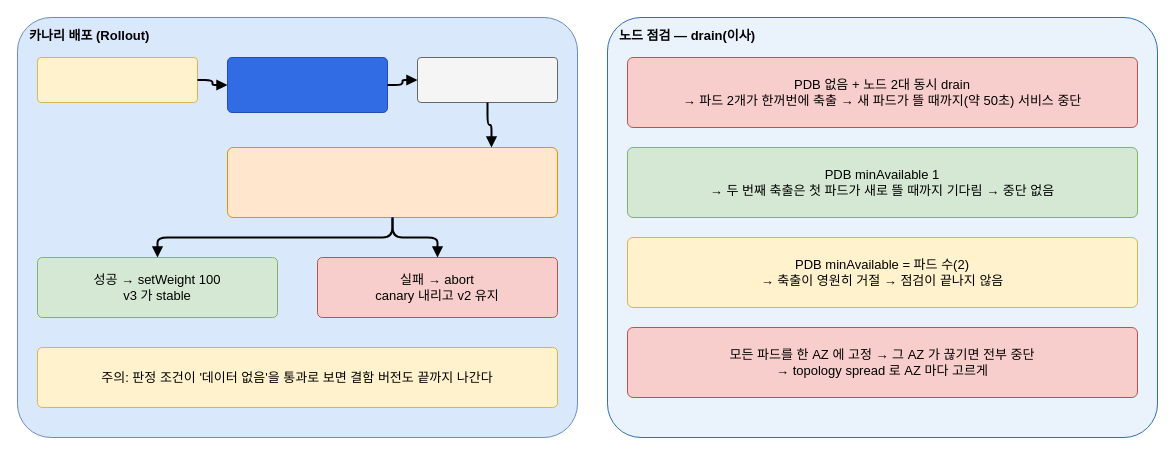
Image size: 1175x455. Some labels were removed from this diagram. The centre of each missing label's shape, as x and y in pixels:
analysis CloudWatch: 오류율·응답시간 3번 재고 2번 실패면 중단: point (392, 182)
pause 60초: point (487, 79)
setWeight 50 canary 파드 1개: point (307, 84)
새 커밋(v3): point (117, 79)
